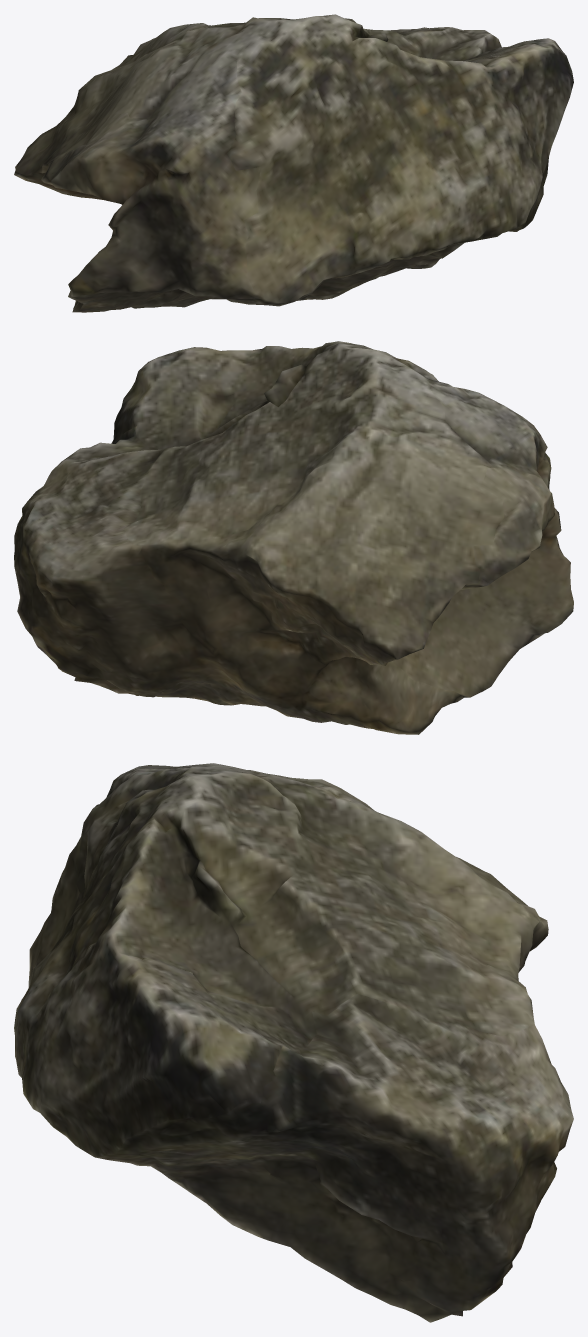
The model's file is rock_03_lod0.glb.
The picture shows the model from 3 angles, top to bottom: view 1: azimuth 30°, elevation 25°; view 2: azimuth 150°, elevation 25°; view 3: azimuth 270°, elevation 25°; orthographic projection. The views are drawn at different scales.
Visible parts, largest first — view 1: Rock_03_LOD0; view 2: Rock_03_LOD0; view 3: Rock_03_LOD0.
Part boxes in pixels (x1,y1,x2,y2): Rock_03_LOD0: (14,14,573,312); Rock_03_LOD0: (14,341,573,734); Rock_03_LOD0: (14,763,573,1322).
Bounding box in the file's own units: 1.95 × 1.31 × 1.53.
1 material, 1 textured.
